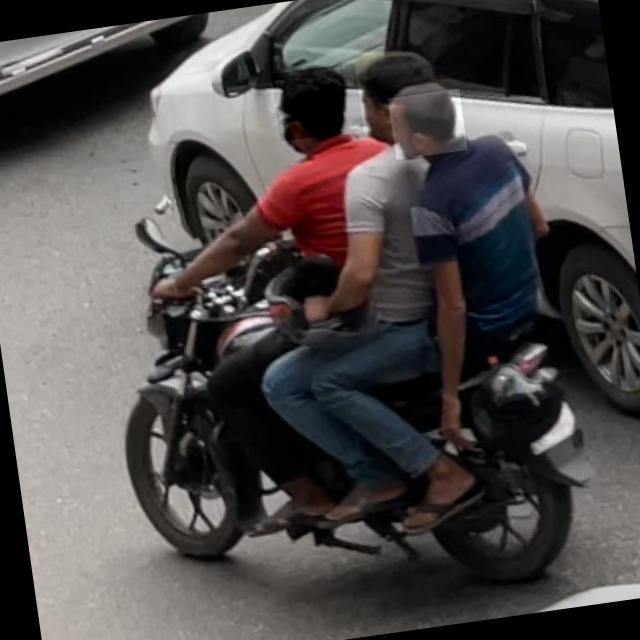without helmet: (271, 62, 364, 142), (388, 88, 468, 160)
